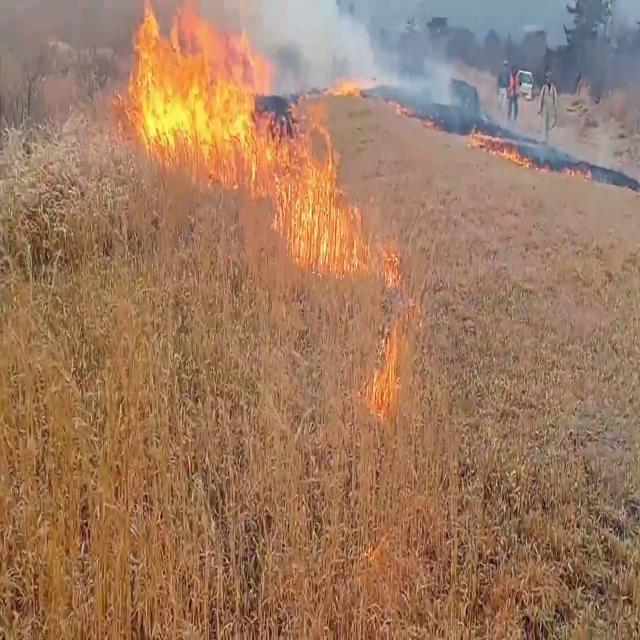Fire: (254, 67, 372, 282), (120, 0, 267, 172), (362, 238, 431, 416)
Smoke: (329, 2, 487, 125)
